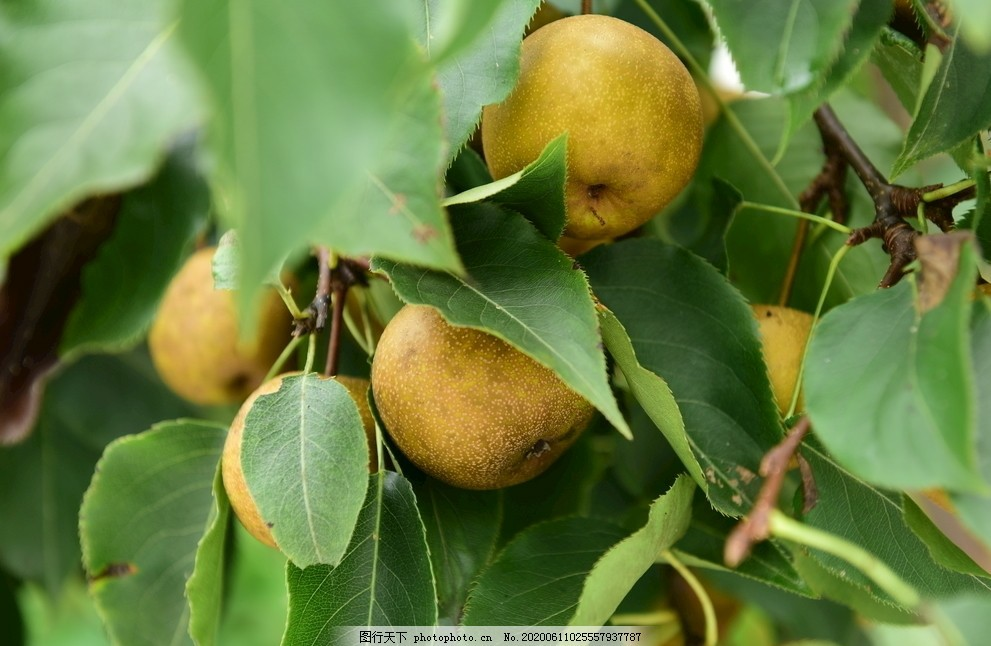pear: (479, 16, 704, 239), (372, 299, 603, 484), (219, 373, 381, 551), (149, 244, 290, 399)
